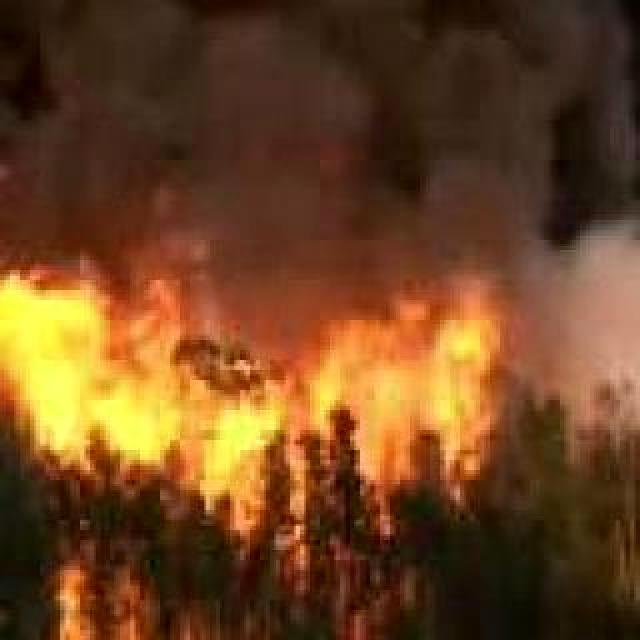fire: (0, 260, 524, 640)
